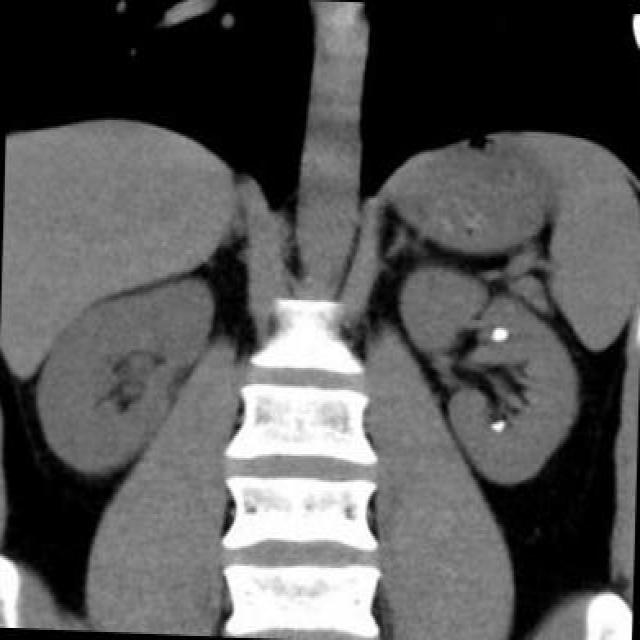Tas_Var: (488, 416, 507, 434), (491, 323, 509, 341)
